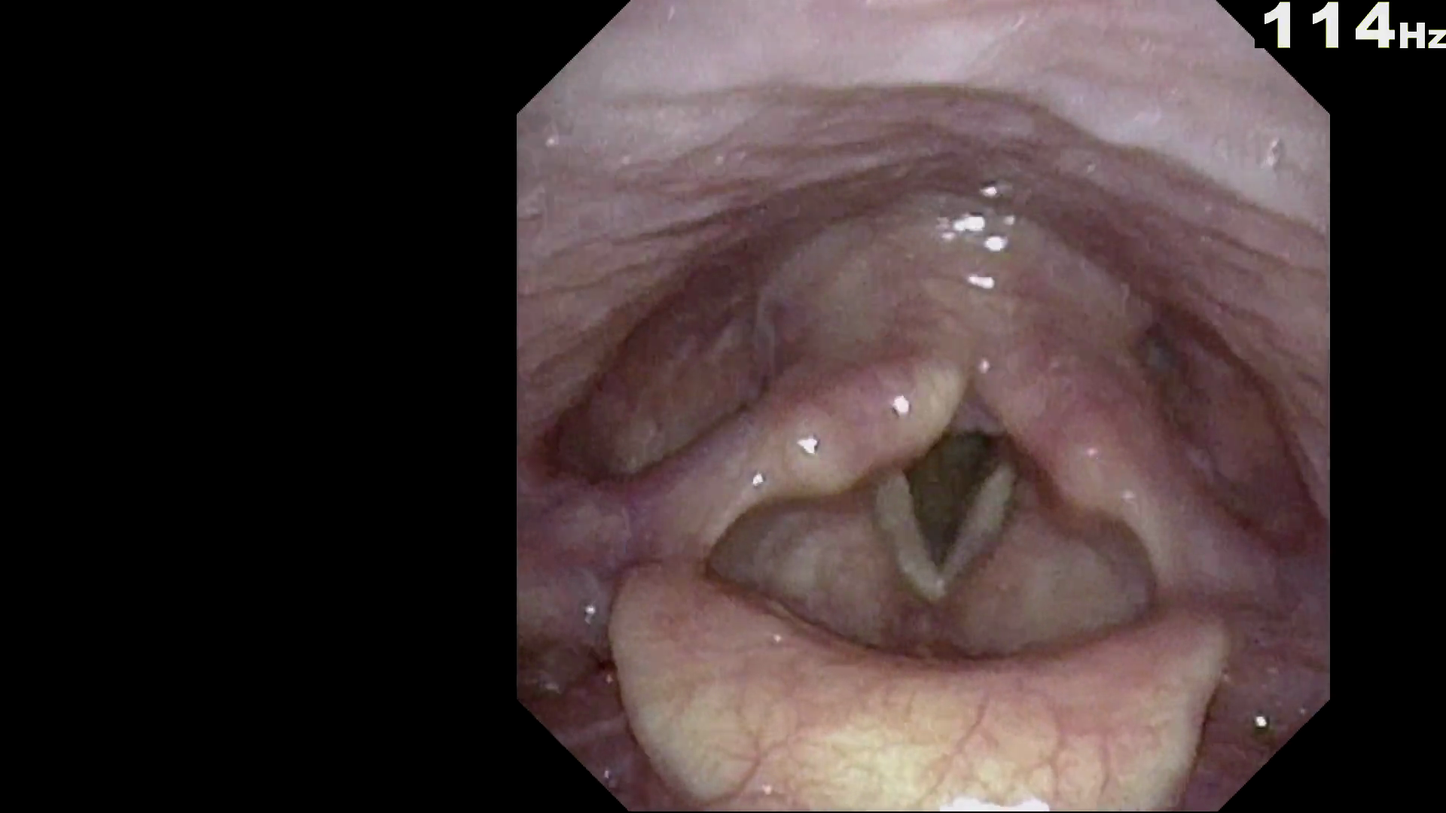epiglottis: (612, 503, 1231, 781)
trachea: (869, 358, 1048, 583)
